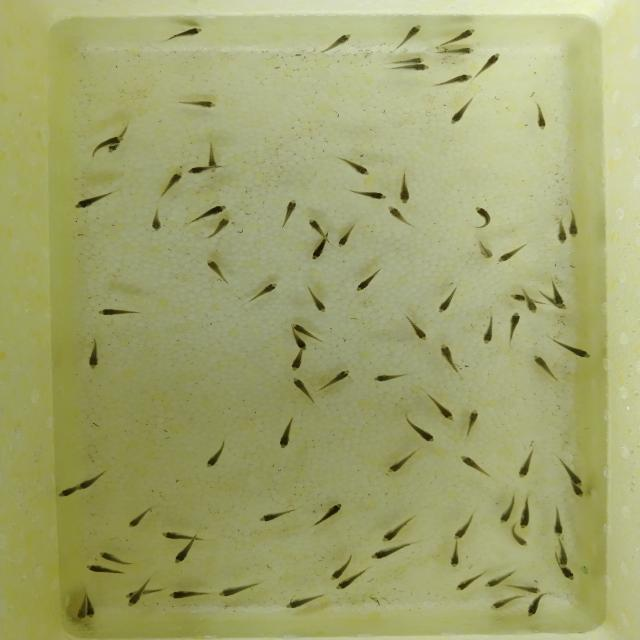fingerling: (73, 188, 119, 212), (314, 369, 352, 395), (378, 517, 414, 543), (557, 452, 583, 488), (392, 22, 424, 51), (275, 197, 300, 234), (428, 393, 457, 423), (387, 203, 418, 230), (407, 419, 439, 445), (124, 504, 156, 530), (438, 343, 461, 379), (403, 313, 430, 343), (158, 169, 184, 200), (338, 155, 373, 178), (369, 543, 411, 562), (386, 450, 419, 474), (353, 266, 381, 294), (556, 337, 590, 360), (448, 96, 474, 126), (476, 51, 504, 78), (458, 453, 488, 478), (530, 353, 556, 381), (314, 502, 344, 526), (283, 595, 323, 613), (433, 72, 473, 90), (216, 583, 258, 600), (450, 510, 472, 542), (206, 437, 230, 466), (440, 26, 478, 44), (336, 218, 358, 249), (488, 594, 522, 614), (293, 376, 318, 403), (497, 242, 527, 264), (278, 416, 298, 449), (516, 448, 536, 481), (472, 202, 494, 232), (304, 282, 326, 312), (307, 235, 331, 262), (395, 168, 413, 204), (209, 217, 237, 240), (324, 32, 354, 53), (163, 27, 205, 42), (194, 200, 227, 219), (437, 285, 458, 314), (171, 542, 196, 566), (250, 281, 280, 301), (202, 257, 226, 282), (524, 594, 547, 620), (96, 548, 133, 564), (148, 202, 165, 236), (435, 46, 476, 60), (479, 315, 498, 345), (258, 510, 293, 526), (166, 588, 206, 602), (86, 338, 103, 370), (548, 510, 567, 538), (463, 407, 480, 438), (497, 496, 515, 525), (475, 235, 495, 261), (353, 189, 390, 203), (506, 311, 522, 343), (452, 576, 480, 594), (446, 542, 464, 570), (370, 372, 411, 384), (533, 99, 548, 131), (205, 139, 219, 173), (84, 564, 123, 576), (186, 165, 225, 177), (568, 205, 581, 239), (508, 581, 544, 593), (518, 496, 531, 529), (95, 133, 125, 147), (76, 588, 88, 623), (325, 560, 346, 580), (507, 530, 531, 547), (557, 538, 570, 569), (482, 573, 504, 591), (178, 99, 217, 109), (98, 307, 140, 316), (555, 218, 568, 247), (391, 64, 432, 73), (53, 483, 76, 499), (288, 353, 307, 372), (158, 530, 192, 540), (553, 277, 564, 307), (307, 218, 327, 234), (334, 580, 357, 593), (389, 56, 425, 64), (77, 477, 94, 492), (291, 336, 309, 350), (560, 568, 578, 582), (525, 299, 539, 315), (294, 321, 310, 334), (507, 290, 523, 302), (86, 601, 95, 621), (572, 489, 587, 499), (127, 597, 140, 608)
